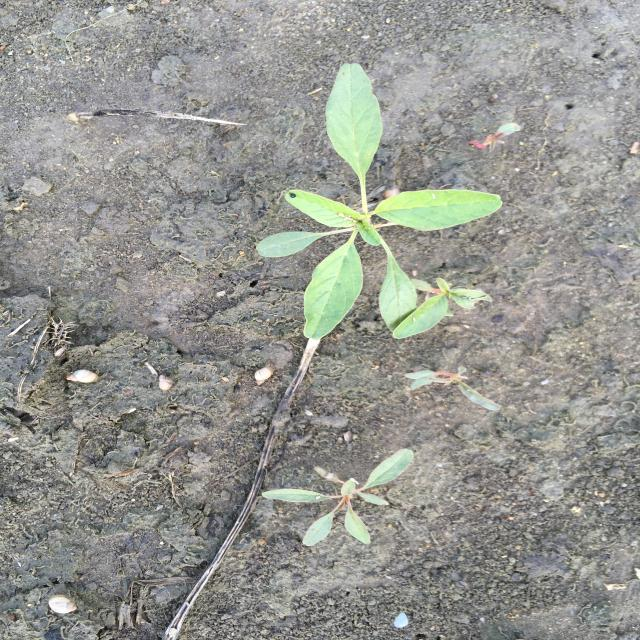Waterhemp: (253, 61, 505, 342), (258, 446, 417, 548), (402, 362, 505, 414)
